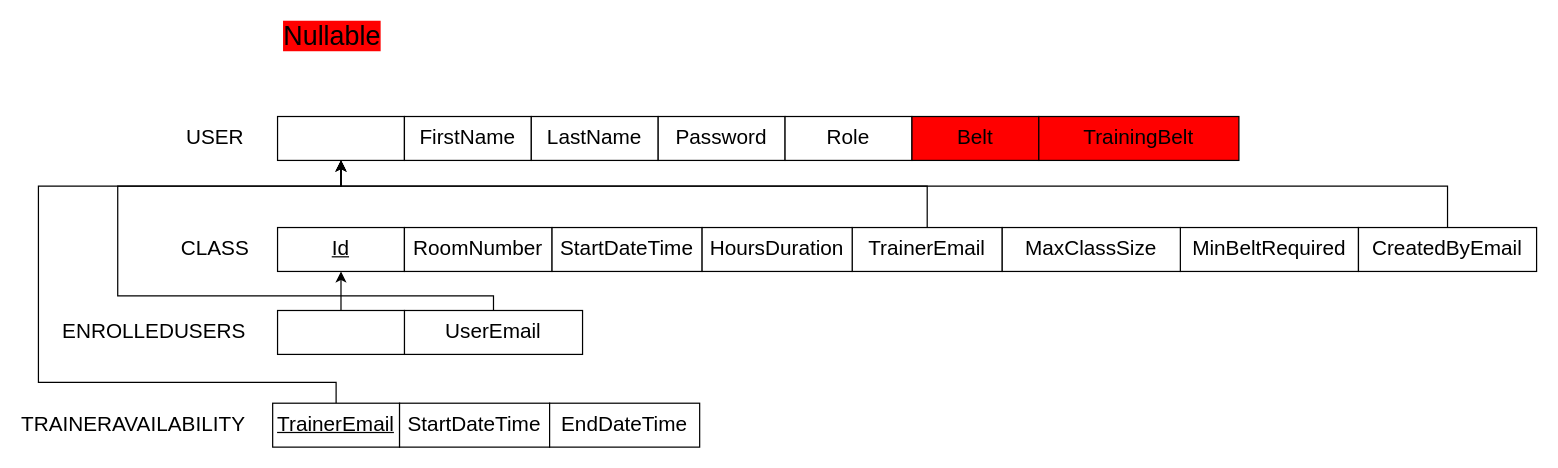
Image size: 1558x468. Some labels were removed from this diagram. Each missing label, with the centre of its shape:
"ClassId" goes at (x=340, y=331).
"Email" goes at (x=340, y=137).
